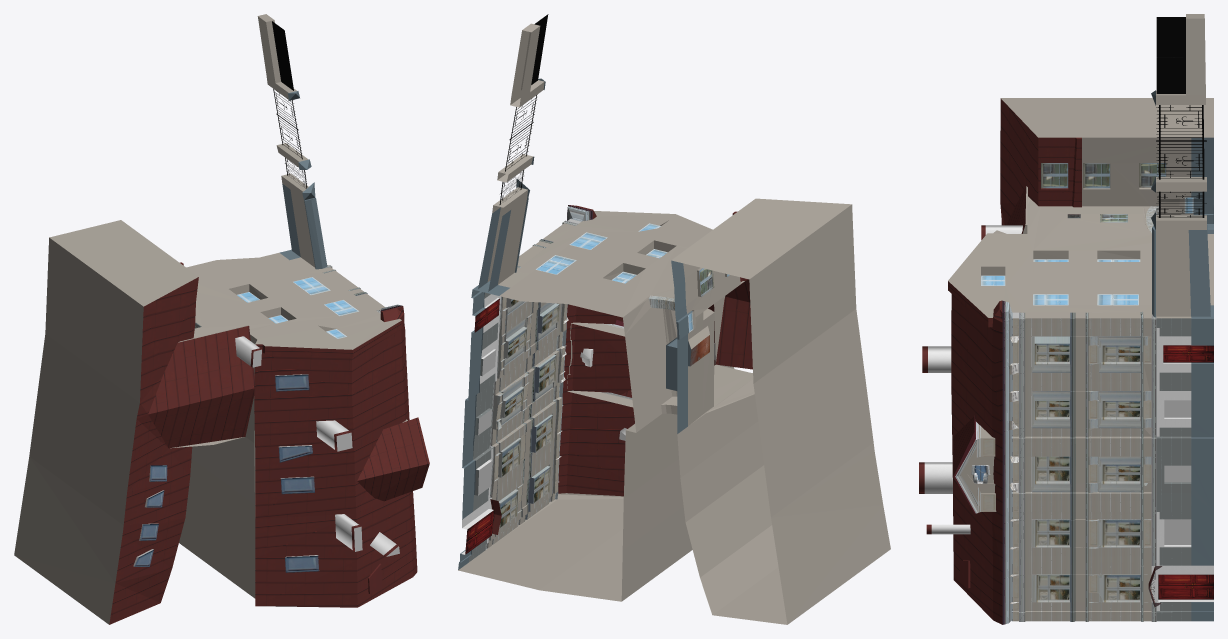
The model's file is Vana_Viru_9-origo.obj.
3 views of the same model, side by side, from view 1: azimuth 30°, elevation 25°; view 2: azimuth 150°, elevation 25°; view 3: azimuth 270°, elevation 25° (orthographic). The views are drawn at different scales.
Parts seen in each view (by area): view 1: Vana_Viru_9; view 2: Vana_Viru_9; view 3: Vana_Viru_9.
Part boxes in pixels (x1,y1,x2,y2): Vana_Viru_9: [14, 14, 429, 624]; Vana_Viru_9: [458, 14, 890, 624]; Vana_Viru_9: [919, 14, 1213, 624].
Size of the model in its own units: 20.5 by 32 by 14.93.
